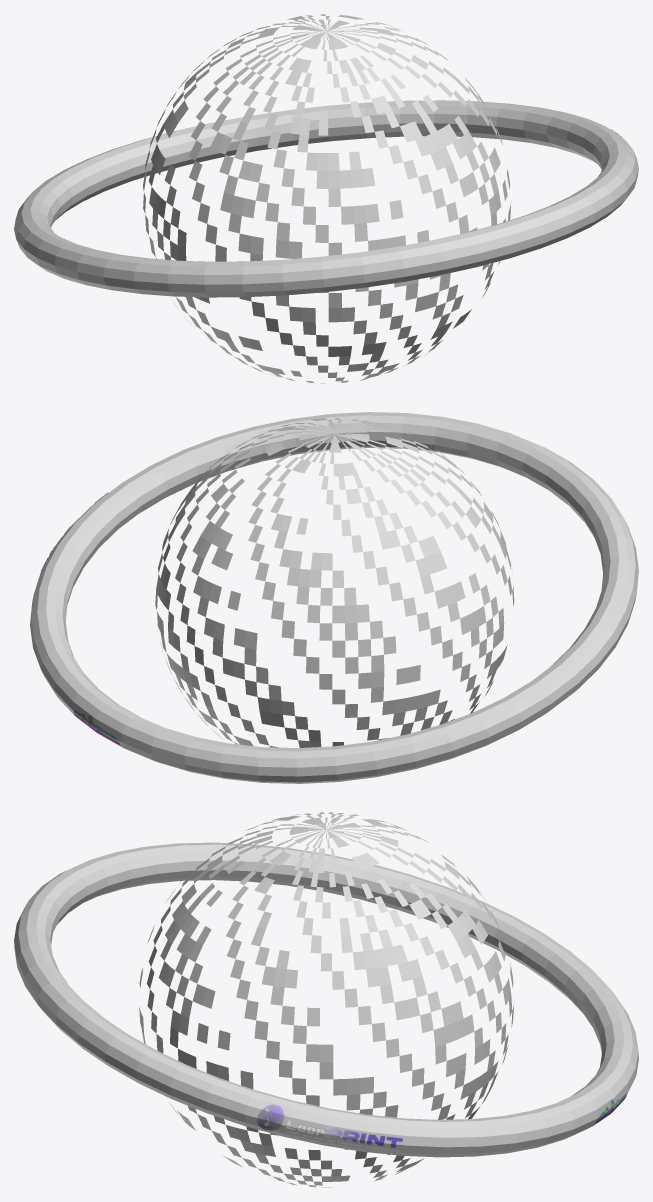
File: sphereV4.3.2.glb
3 renders of one model, top to bottom at view 1: azimuth 30°, elevation 25°; view 2: azimuth 150°, elevation 25°; view 3: azimuth 270°, elevation 25°, orthographic. The views are drawn at different scales.
Visible parts, largest first — view 1: Torus, Sphere; view 2: Torus, Sphere; view 3: Torus, Sphere, loopPrint-header.
Boxes of the visible parts, x1,y1,x2,y2 form: Torus: (14,100,638,297); Sphere: (143,14,511,383); Torus: (30,412,638,783); Sphere: (155,418,514,747); Torus: (14,842,638,1157); Sphere: (139,812,513,1187); loopPrint-header: (257,1104,403,1151).
Bounding box in the file's own units: 17.65 × 10 × 16.64.
Materials: 2 (2 with a texture image).
